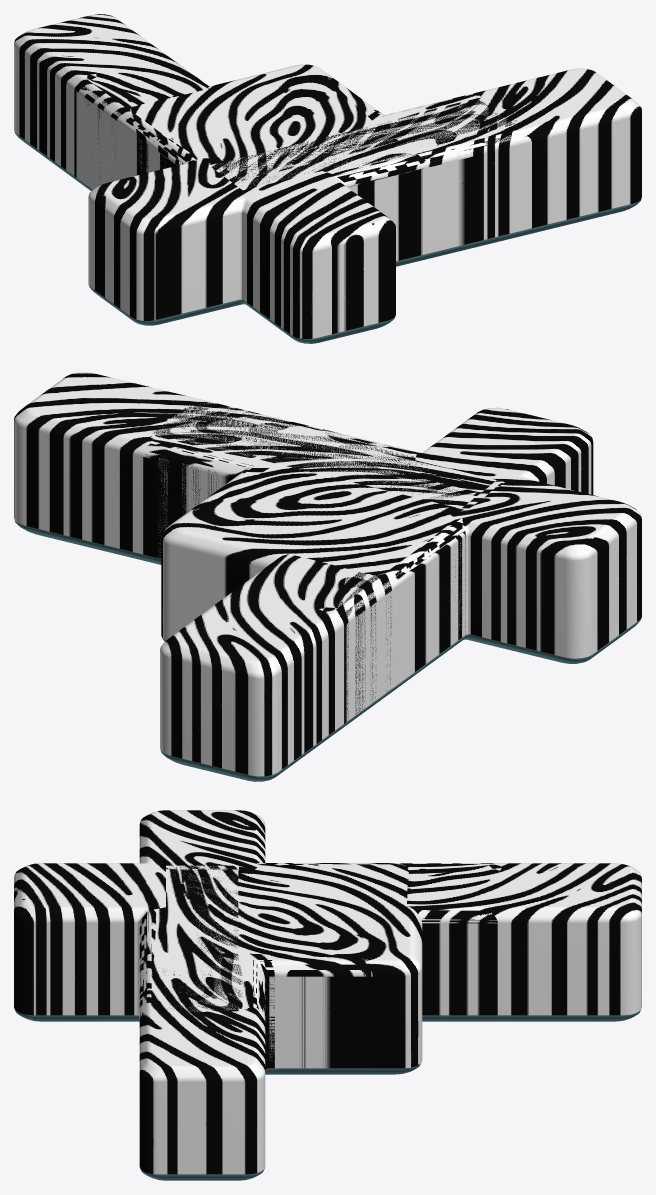
File: LightBlue.fbx
3 renders of one model, top to bottom at view 1: azimuth 30°, elevation 25°; view 2: azimuth 150°, elevation 25°; view 3: azimuth 270°, elevation 25°, orthographic. The views are drawn at different scales.
Parts seen in each view (by area): view 1: Block_6, Block_4, Block_1, Block_9, Block_3, Block_5, Block_7, Block_8, Block_2; view 2: Block_6, Block_9, Block_4, Block_1, Block_3, Block_8, Block_7, Block_5; view 3: Block_4, Block_1, Block_6, Block_9, Block_7, Block_5, Block_3, Block_8.
Boxes of the visible parts, <box> form: Block_6: <box>88,121,427,343</box>; Block_4: <box>209,68,641,264</box>; Block_1: <box>122,64,398,180</box>; Block_9: <box>14,14,208,190</box>; Block_3: <box>209,94,531,264</box>; Block_5: <box>227,77,528,264</box>; Block_7: <box>74,67,425,266</box>; Block_8: <box>118,106,382,179</box>; Block_2: <box>344,162,430,265</box>; Block_6: <box>323,407,641,675</box>; Block_9: <box>160,525,463,781</box>; Block_4: <box>14,372,504,561</box>; Block_1: <box>161,444,476,641</box>; Block_3: <box>139,401,502,564</box>; Block_8: <box>240,466,465,690</box>; Block_7: <box>252,532,465,723</box>; Block_5: <box>139,406,500,564</box>; Block_4: <box>139,866,265,1180</box>; Block_1: <box>188,864,422,1074</box>; Block_6: <box>14,810,370,1021</box>; Block_9: <box>399,863,641,1021</box>; Block_7: <box>141,864,501,1021</box>; Block_5: <box>143,866,372,1074</box>; Block_3: <box>139,865,265,1019</box>; Block_8: <box>253,863,408,1074</box>.
Bounding box in the file's own units: 5 × 1 × 5.
Materials: 2 (2 with a texture image).
